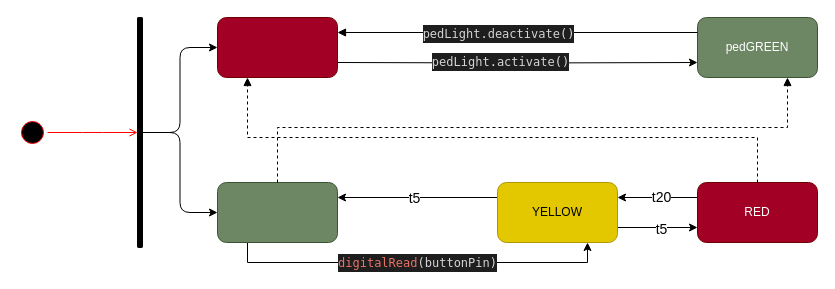
Some shapes in this 835 by 289 pixel diagram are drawn without their labels. Here are the shapes that lost their labels. From the top down, the box of each, then its label:
(216, 16, 338, 78): pedRED
(216, 182, 338, 242): GREEN
